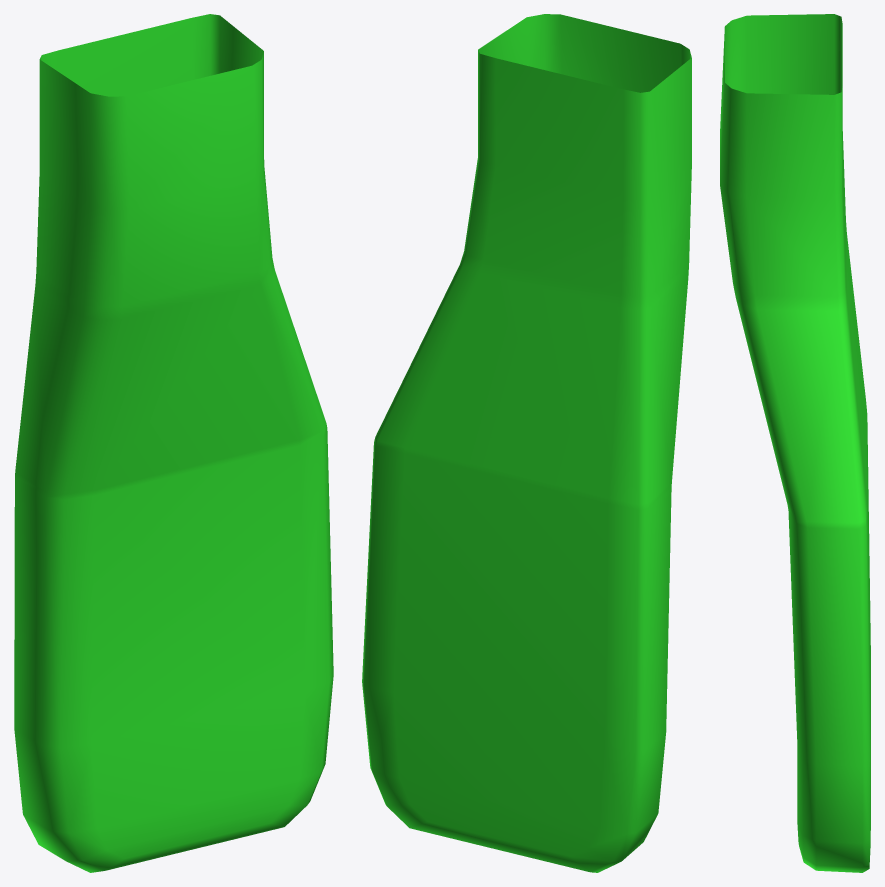
The model's file is Pedal.obj.
3 views of the same model, side by side, from view 1: azimuth 30°, elevation 25°; view 2: azimuth 150°, elevation 25°; view 3: azimuth 270°, elevation 25° (orthographic). The views are drawn at different scales.
Visible parts, largest first — view 1: Pedal; view 2: Pedal; view 3: Pedal.
Part boxes in pixels (<box>): Pedal: <box>14,14,333,872</box>; Pedal: <box>362,14,691,872</box>; Pedal: <box>720,14,870,872</box>.
Size of the model in its own units: 0.0561 by 0.1473 by 0.0268.
